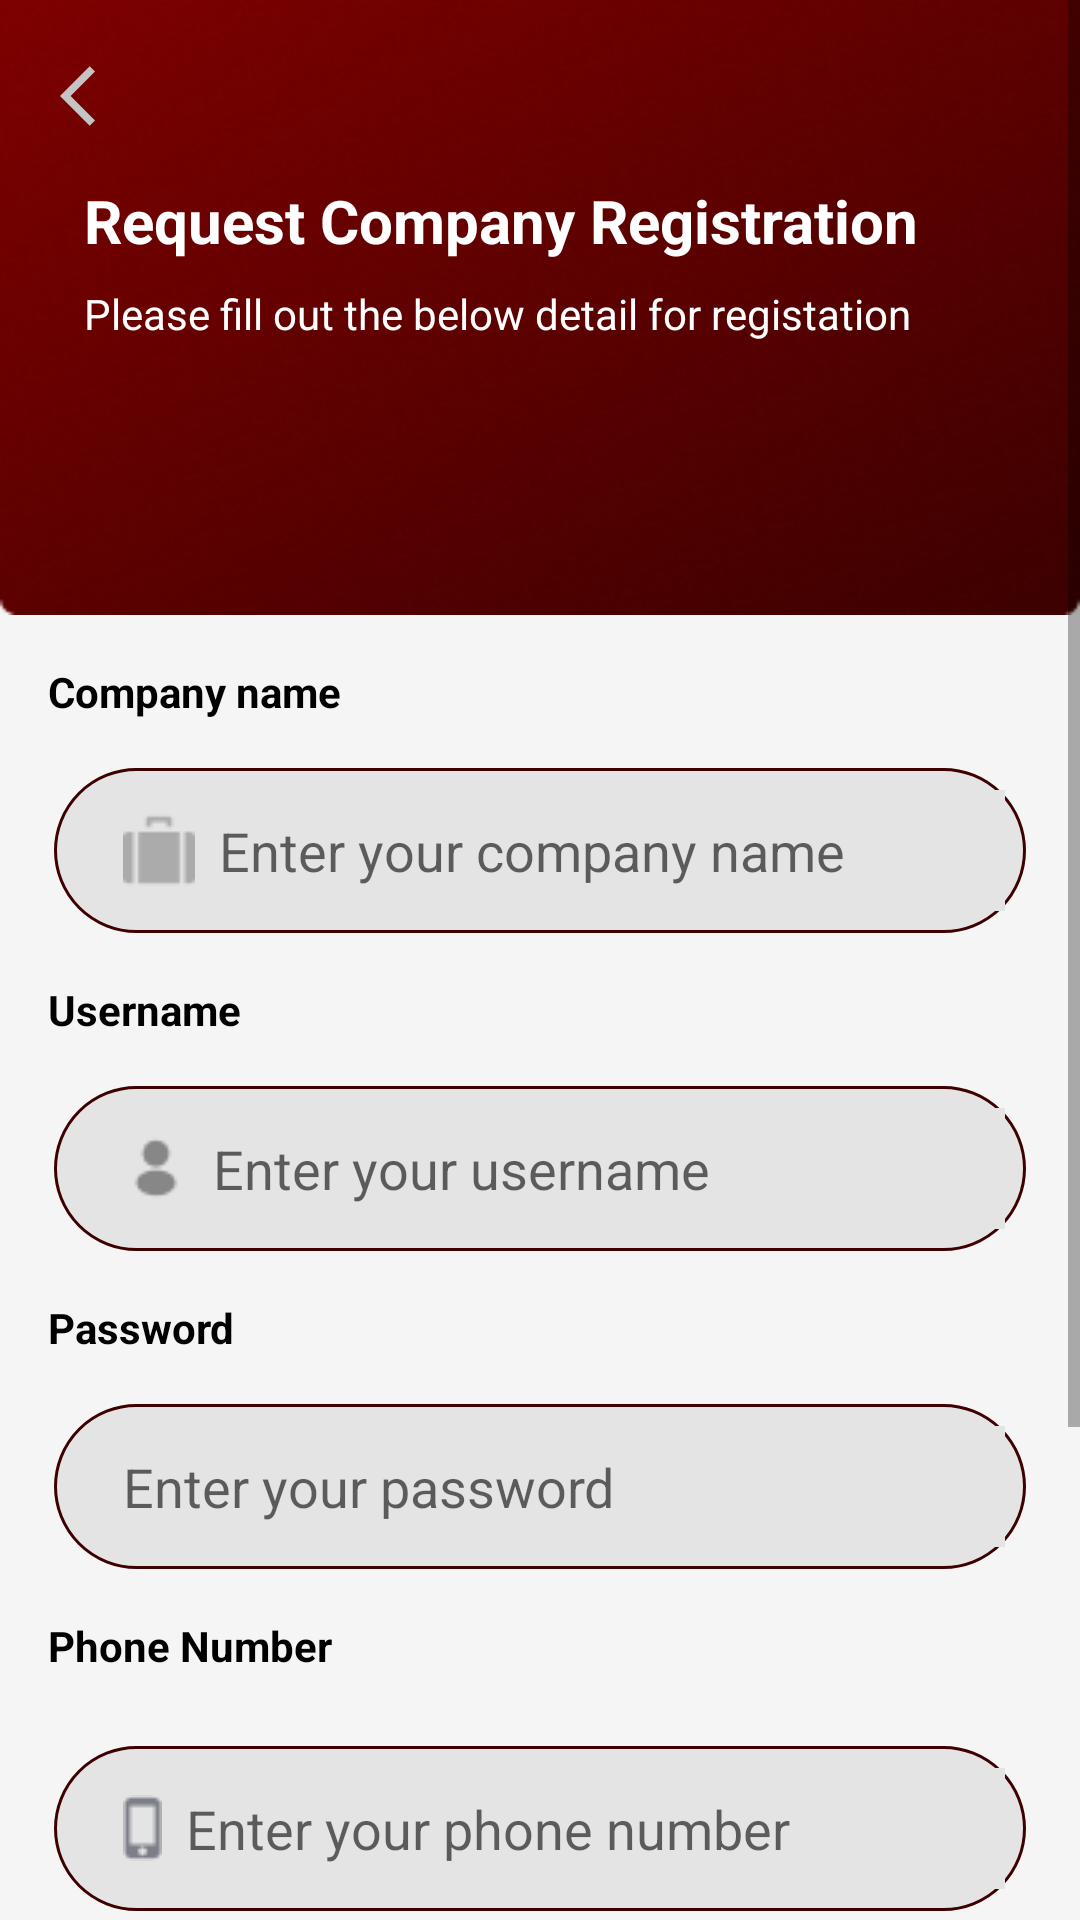

Screen size 1080*1920. Icon name, then its center in pixels as (x=x, y=y):
arrow back: (x=77, y=96)
